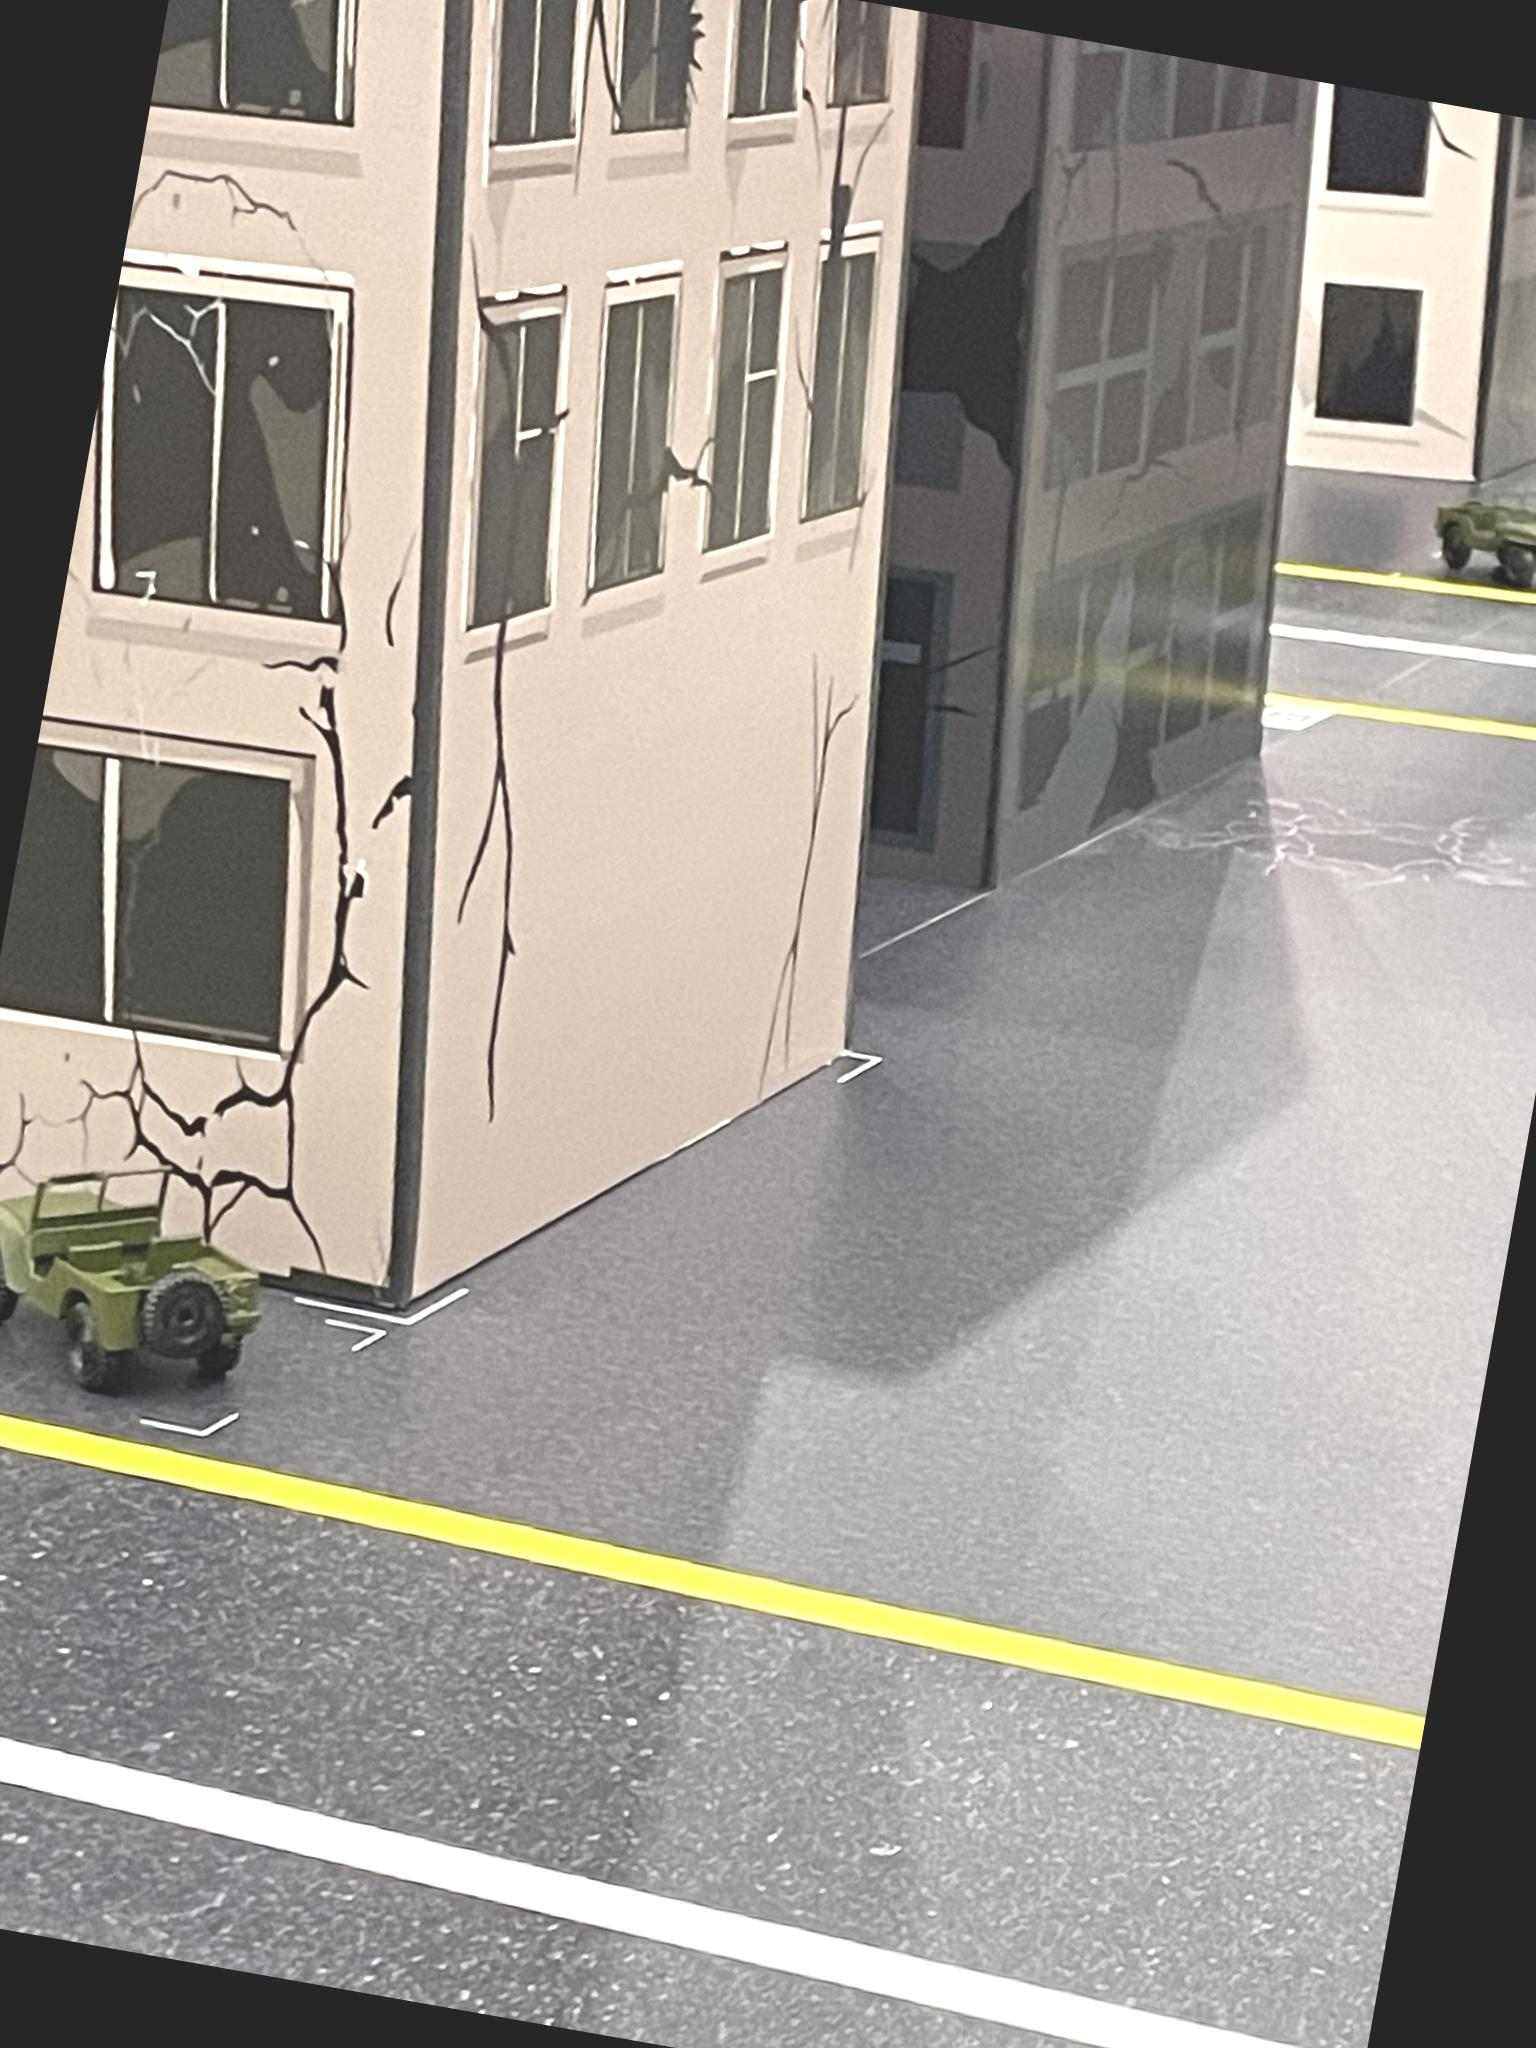Car: (0, 1140, 276, 1417), (1430, 481, 1536, 595)
